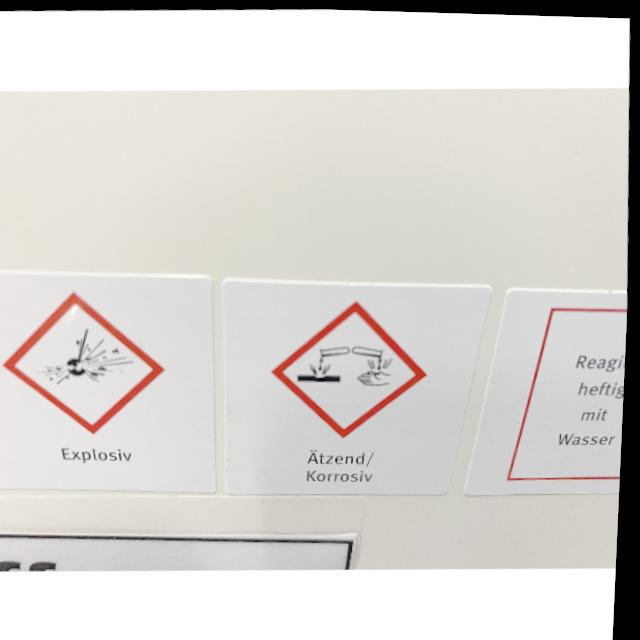corrosive: (299, 340, 396, 386)
explosive: (37, 324, 138, 386)
